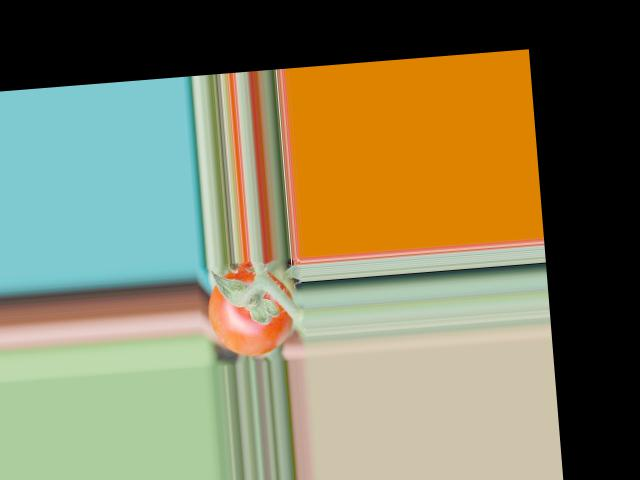tomato: (204, 260, 297, 358)
